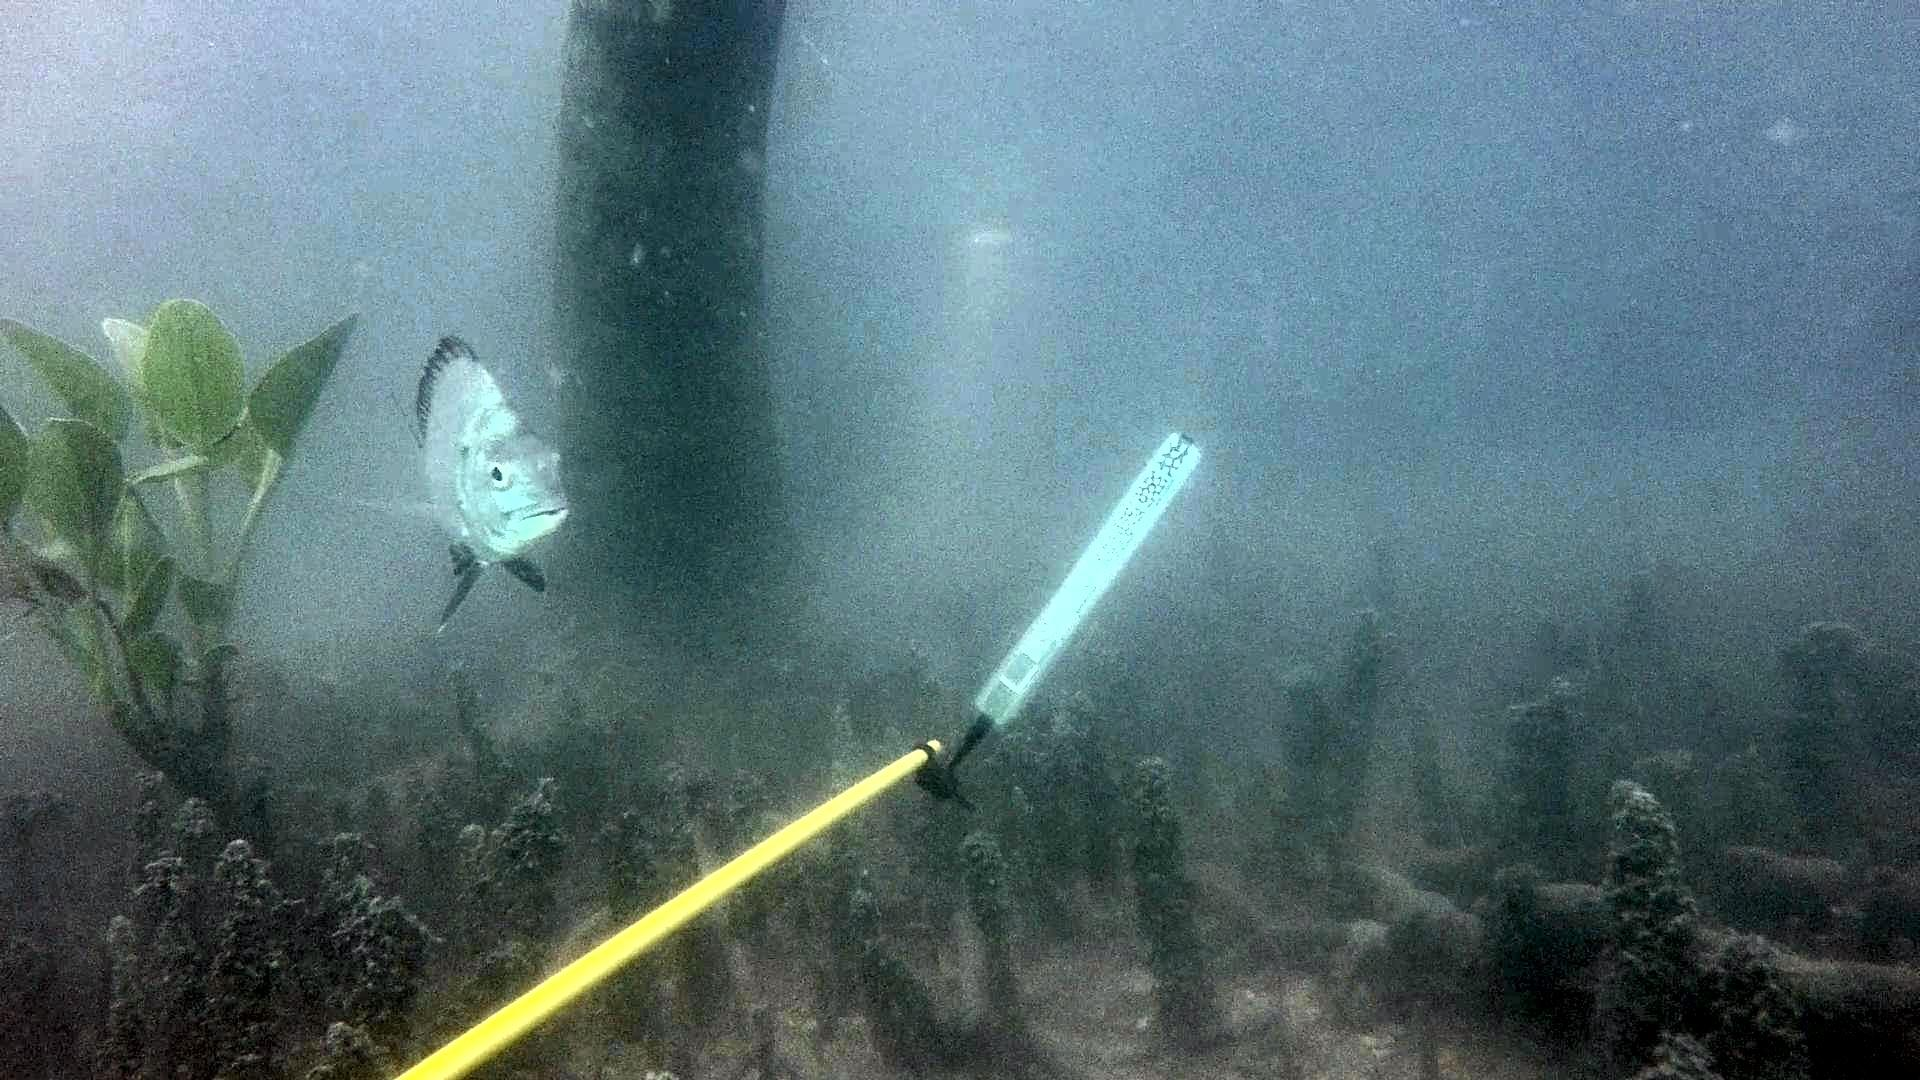acanthopagrus palmaris: (345, 326, 578, 636)
